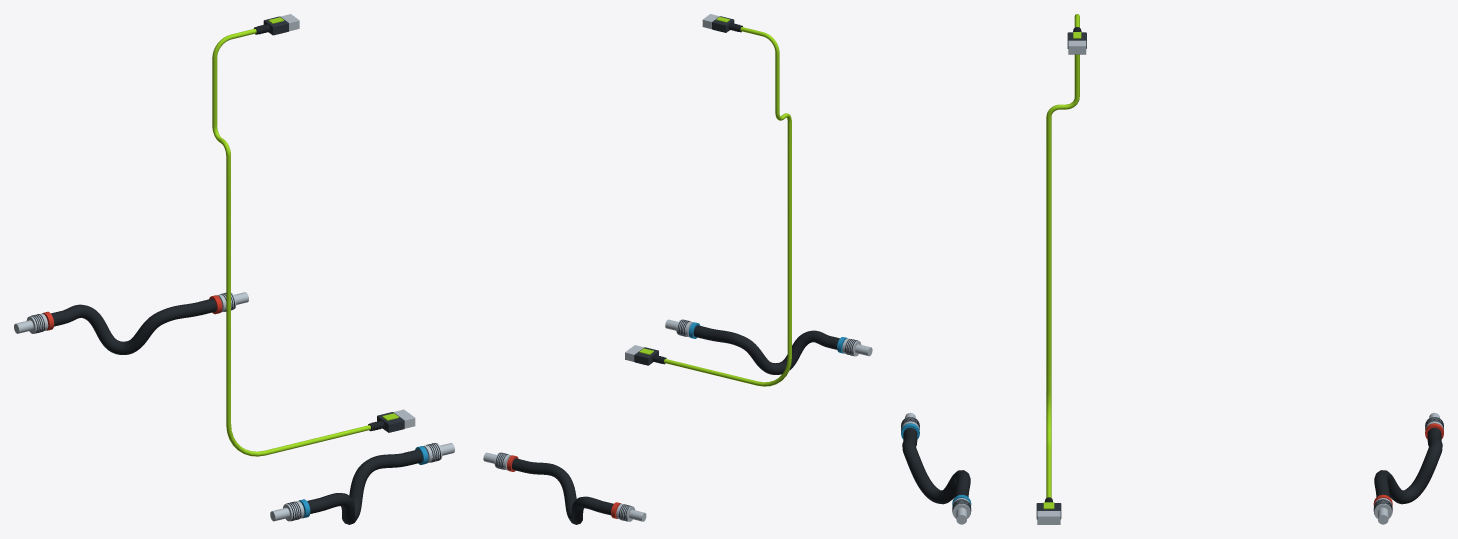
File: SM_GJ_Harness_13.fbx
3 views of the same model, side by side, from view 1: azimuth 30°, elevation 25°; view 2: azimuth 150°, elevation 25°; view 3: azimuth 270°, elevation 25° (orthographic). The views are drawn at different scales.
Visible parts, largest first — view 1: SM_GJ_Harness_13; view 2: SM_GJ_Harness_13; view 3: SM_GJ_Harness_13.
Part boxes in pixels (bbox=[...]): SM_GJ_Harness_13: bbox=[14, 14, 454, 524]; SM_GJ_Harness_13: bbox=[483, 14, 872, 524]; SM_GJ_Harness_13: bbox=[901, 14, 1443, 524].
Size of the model in its own units: 22.6 by 50.76 by 47.92.
